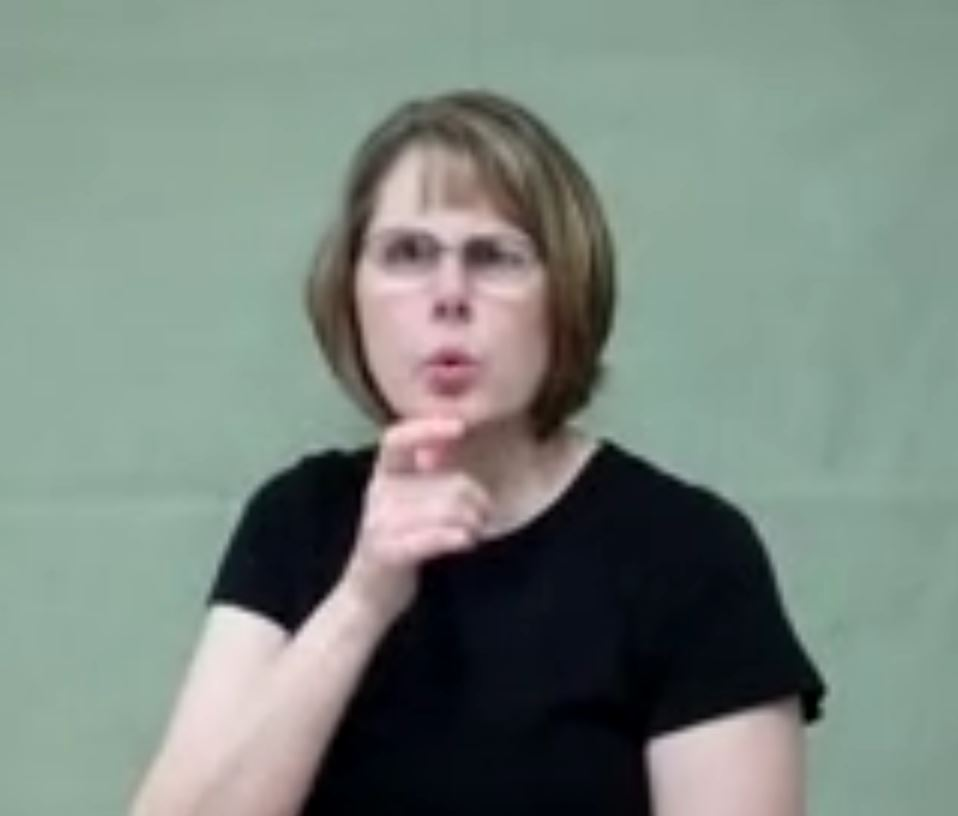who: (359, 403, 492, 586)
